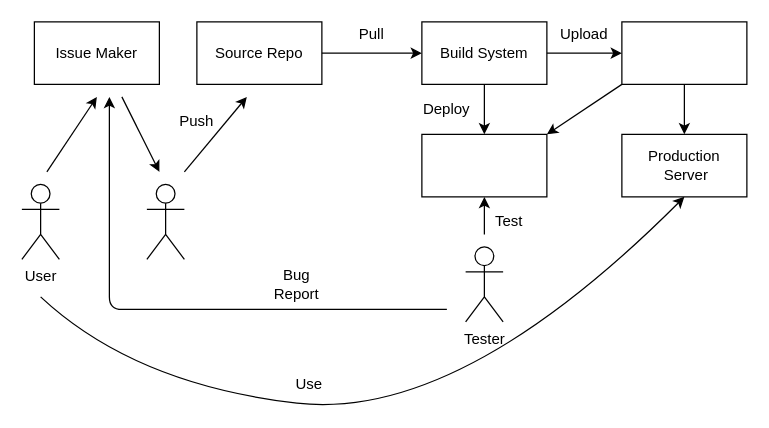
This 769x428 diagram has some shape labels left out. Each missing label, with the centre of its shape:
"Binary Repo" belongs at (684,52).
"Developer" belongs at (165,221).
"Test Server" belongs at (484,165).
